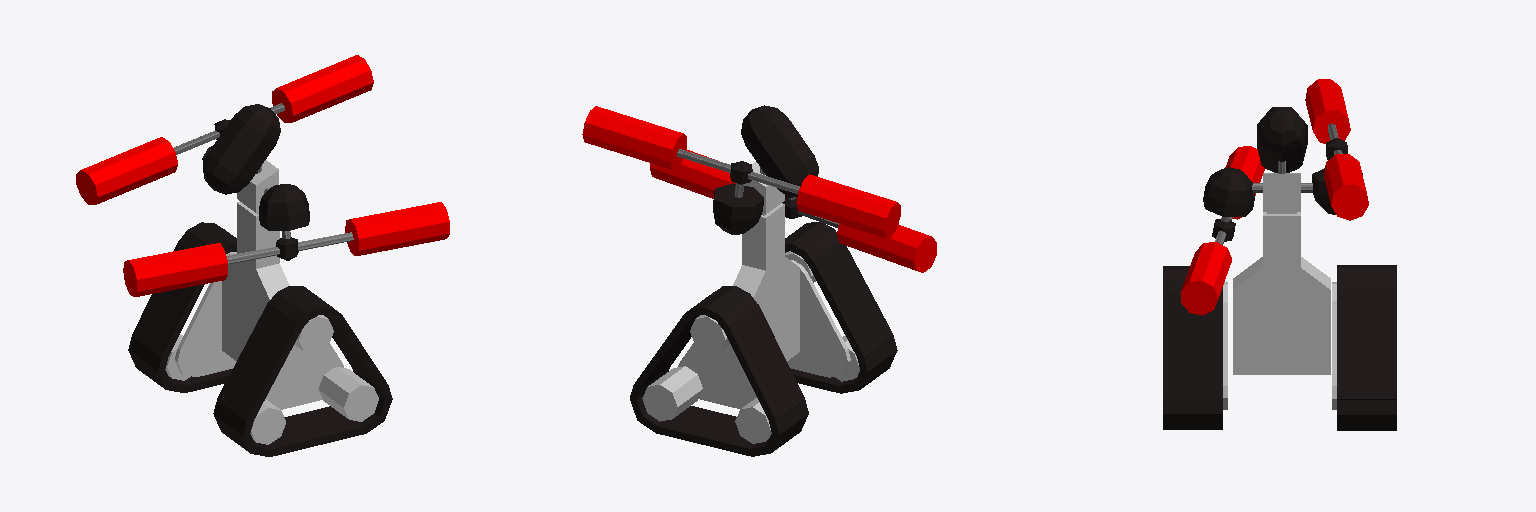
The picture shows the model from 3 angles: view 1: azimuth 30°, elevation 25°; view 2: azimuth 150°, elevation 25°; view 3: azimuth 270°, elevation 25°; orthographic projection.
Bounding box in the file's own units: 2.35 × 2.23 × 1.59.
Materials: 4 (1 with a texture image).